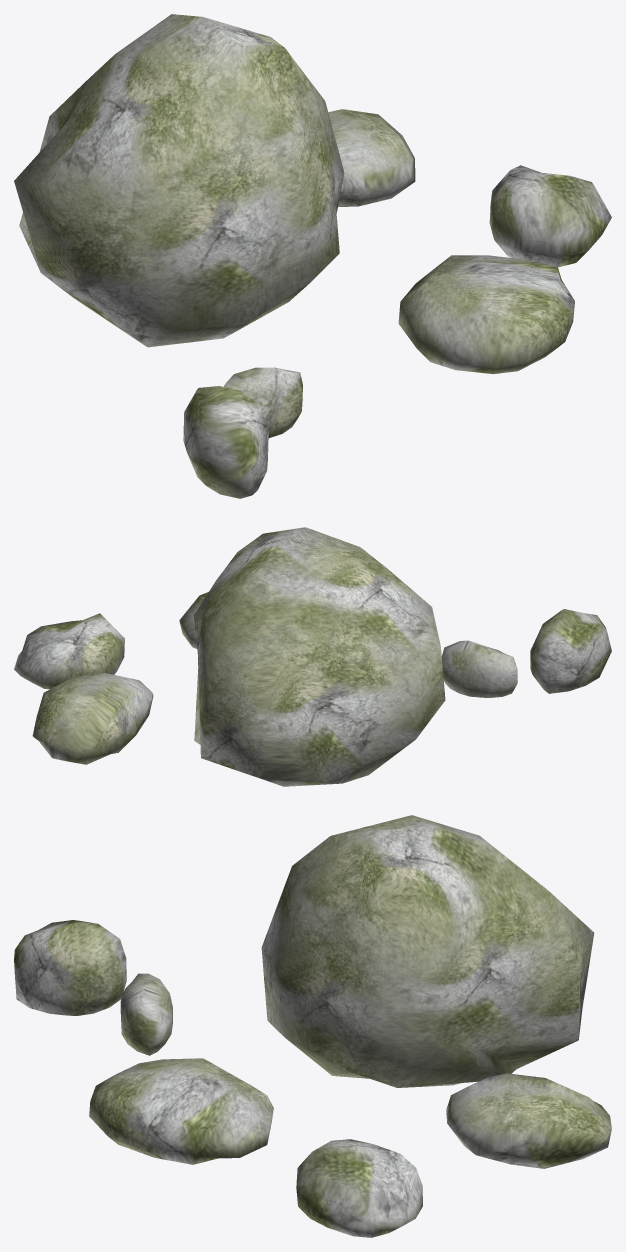
The model's file is Piedra_004_Finished_Eje_Fix.fbx.
3 renders of one model, top to bottom at view 1: azimuth 30°, elevation 25°; view 2: azimuth 150°, elevation 25°; view 3: azimuth 270°, elevation 25°, orthographic. The views are drawn at different scales.
Parts seen in each view (by area): view 1: Cube.003; view 2: Cube.003; view 3: Cube.003.
Part boxes in pixels (x1,y1,x2,y2): Cube.003: [14, 14, 611, 498]; Cube.003: [14, 527, 611, 786]; Cube.003: [14, 815, 611, 1237].
Size of the model in its own units: 364 by 172 by 355.
1 material, 1 textured.
